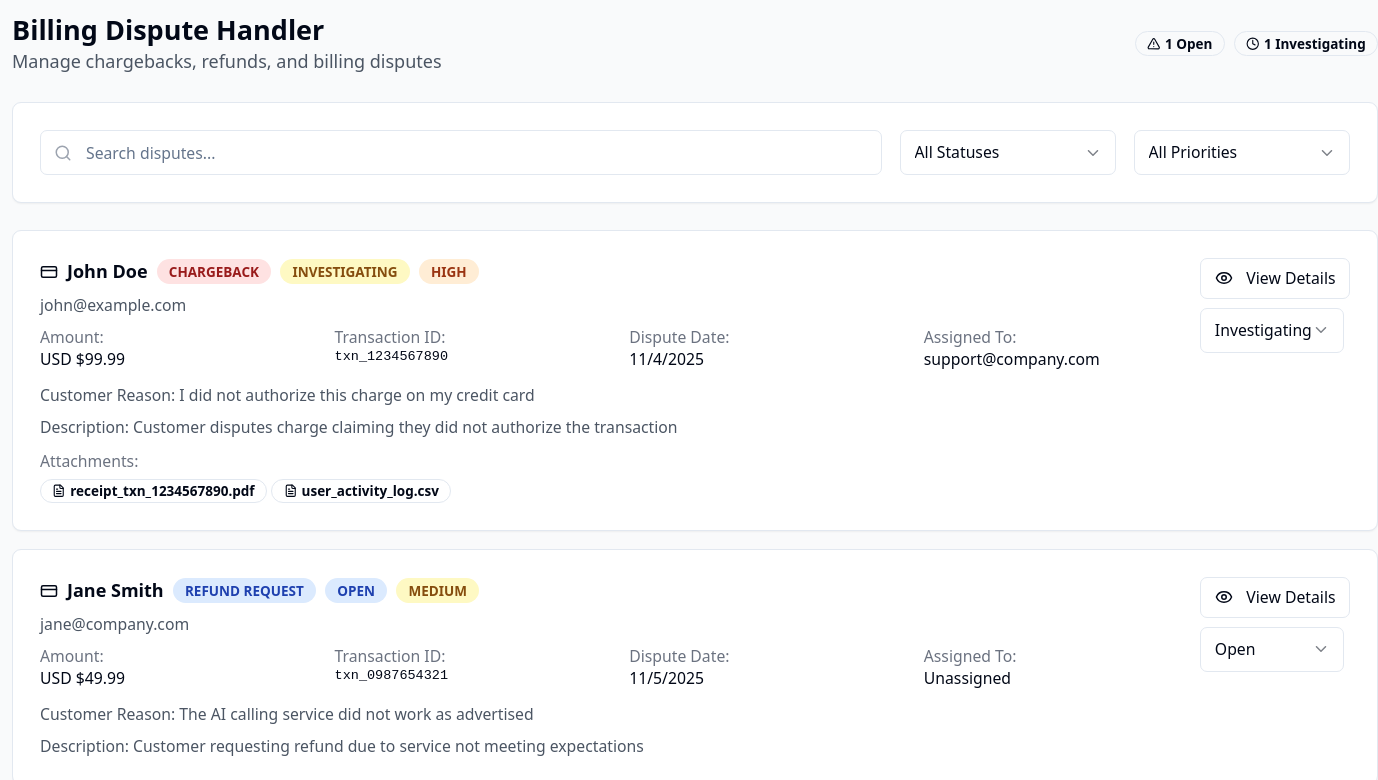
Test: BillingDisputeHandler › shows empty state when no disputes match filters
The width and height of the screenshot is (1378, 780).
Step 1. Type "nonexistent" into the field with placeholder "Search disputes..." → (461, 152), box [40,130,882,175]
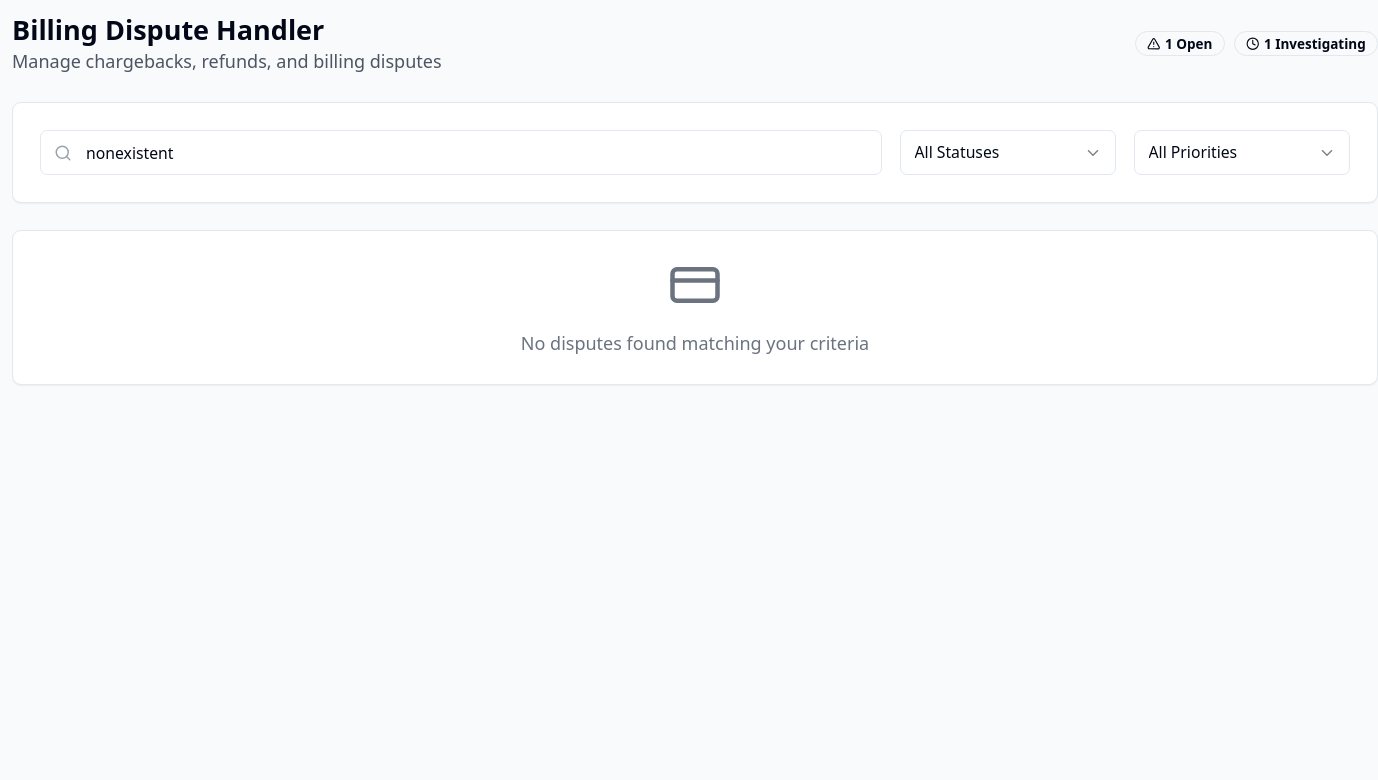
Check: the text "No disputes found matching your criteria" is shown, box [521,331,869,355]
